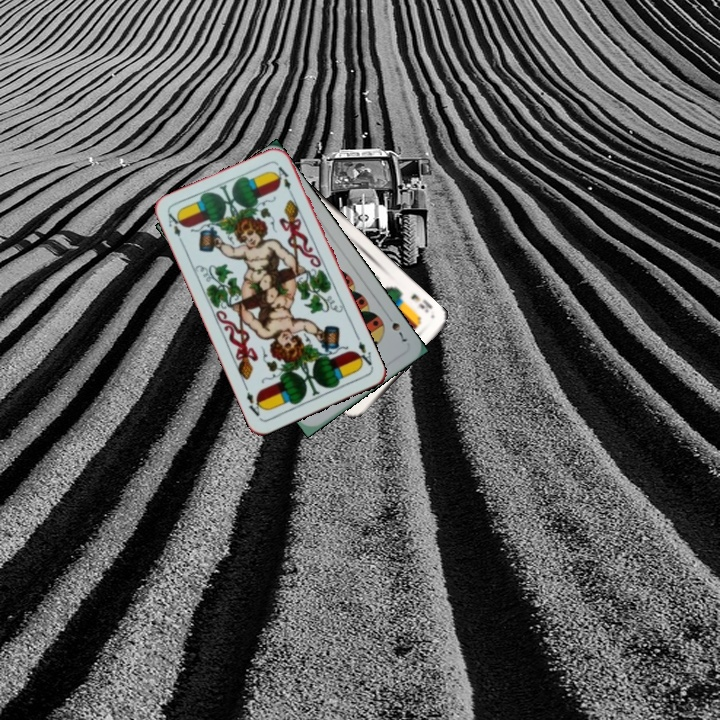EA: (164, 209, 187, 248), (351, 337, 376, 370)
EK: (407, 290, 435, 315)
S7: (383, 310, 410, 345)
